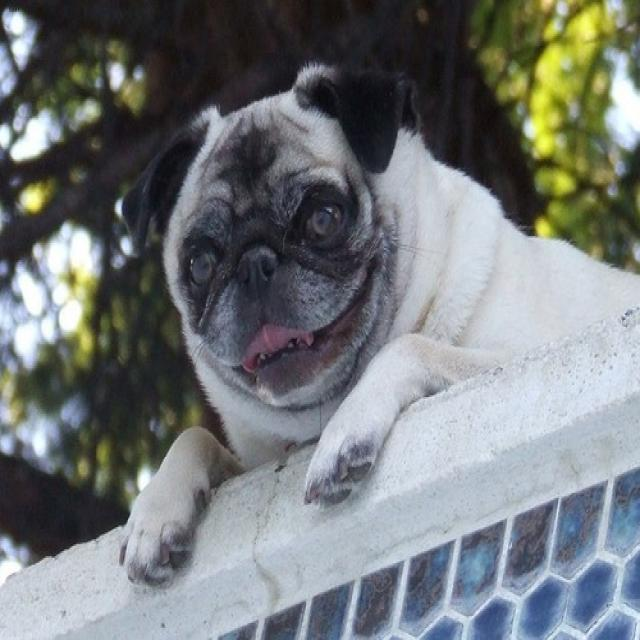dog-pug: (106, 50, 637, 599)
